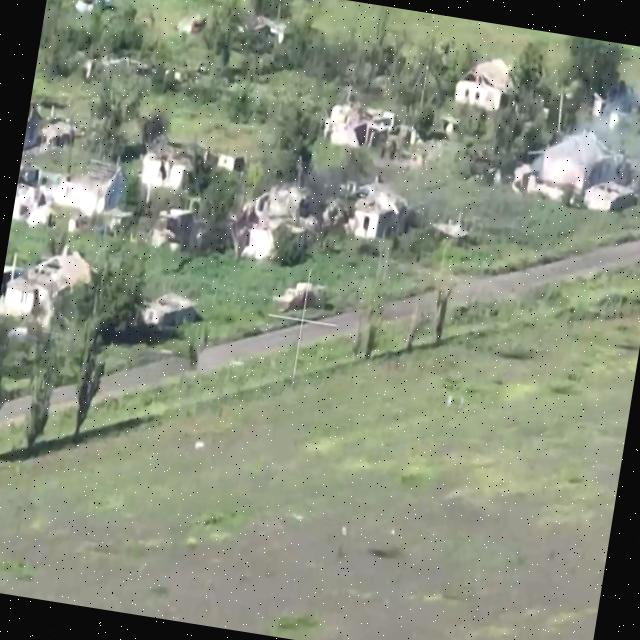Vehicle: (273, 278, 328, 324)
